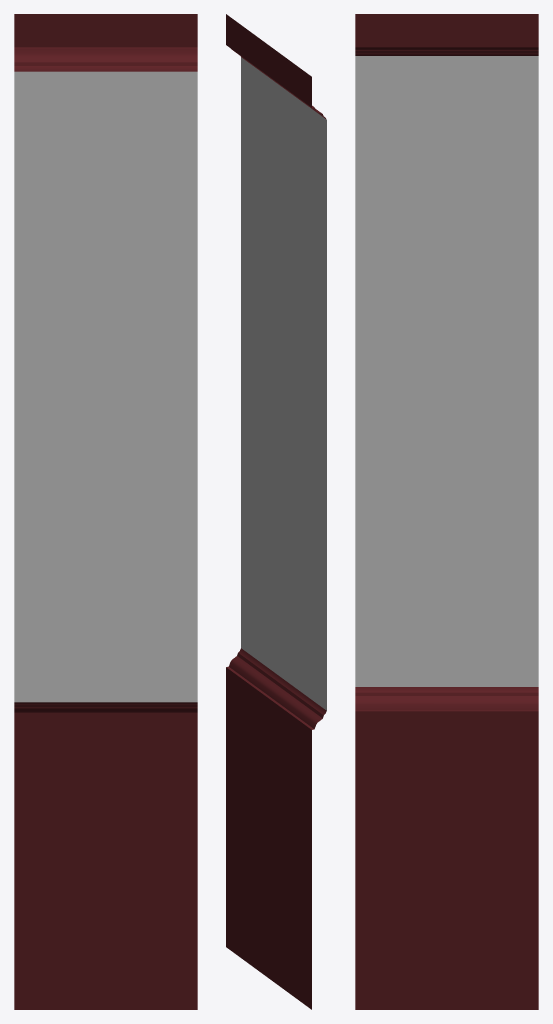
Rendered from sm_wall_50.fbx.
The picture shows the model from 3 angles, left to right: view 1: azimuth 90°, elevation 25°; view 2: azimuth 210°, elevation 25°; view 3: azimuth 270°, elevation 25°; orthographic projection. The views are drawn at different scales.
Visible parts, largest first — view 1: sm_wall_50; view 2: sm_wall_50; view 3: sm_wall_50.
Boxes of the visible parts, <box> form: sm_wall_50: <box>14,14,197,1009</box>; sm_wall_50: <box>226,14,326,1009</box>; sm_wall_50: <box>355,14,538,1009</box>.
Size of the model in its own units: 5 by 300 by 50.
